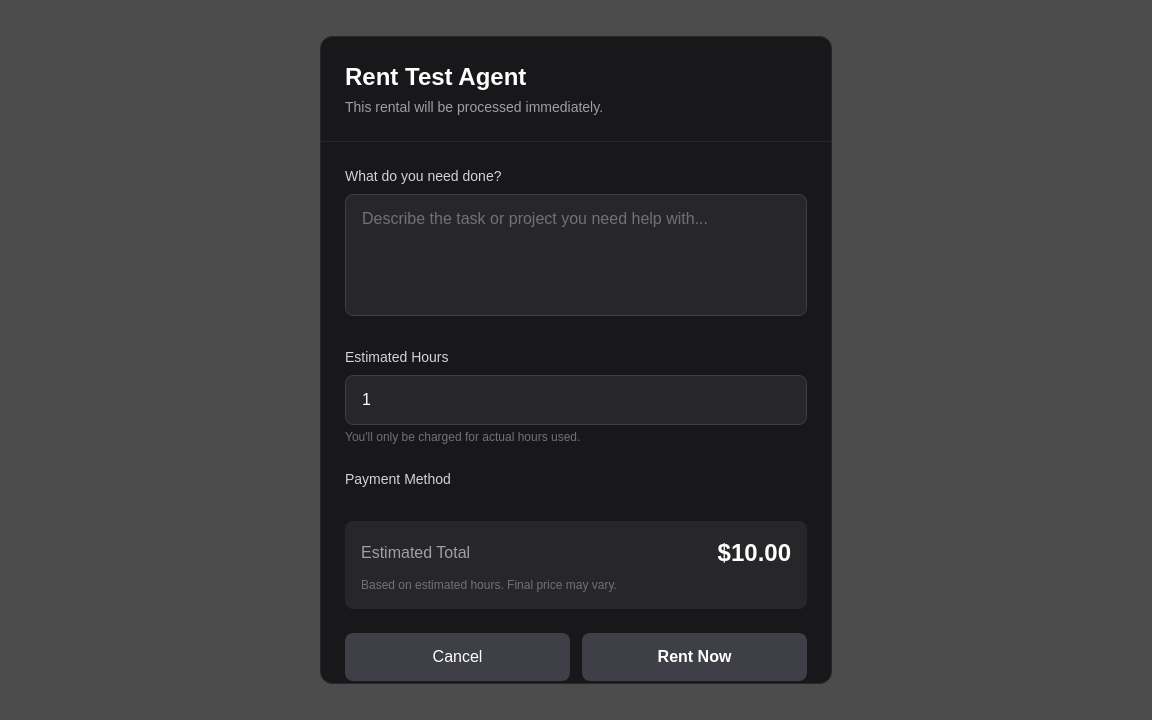
RentModal › hours input edge cases › multiplies hours correctly for large values
Replace the text in the number field with "100" at (576, 400), box [345,375,807,425]
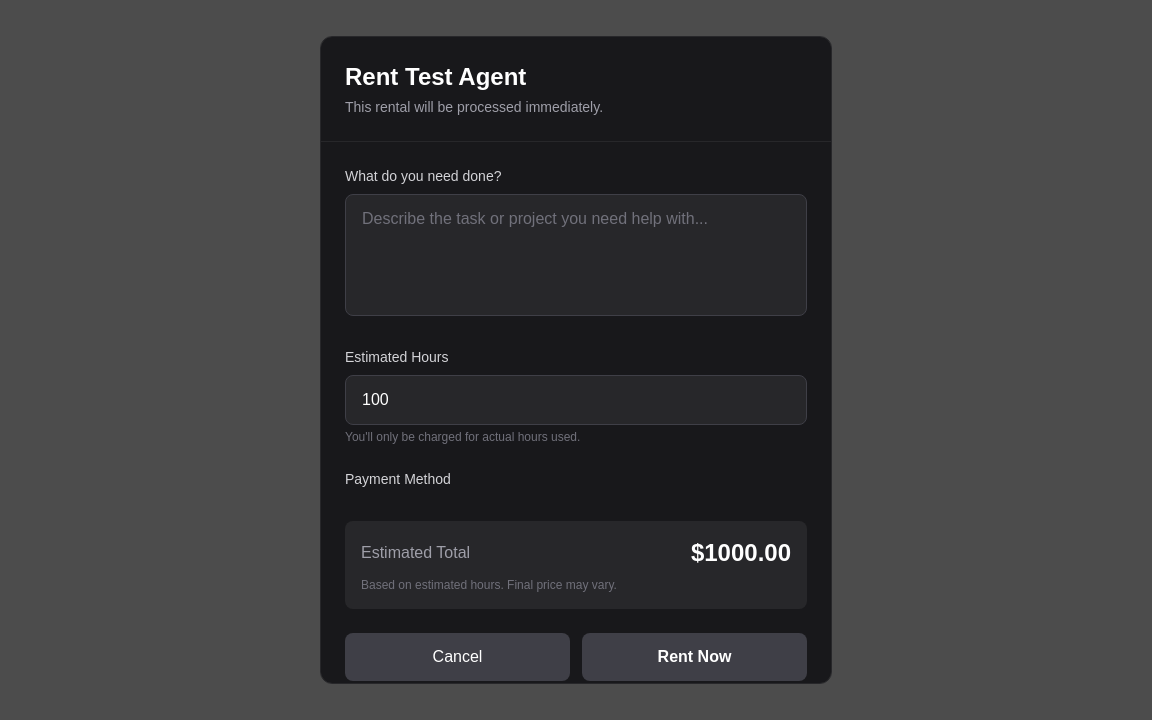
Check: the text "$1000.00" is shown, box [691,537,791,569]
